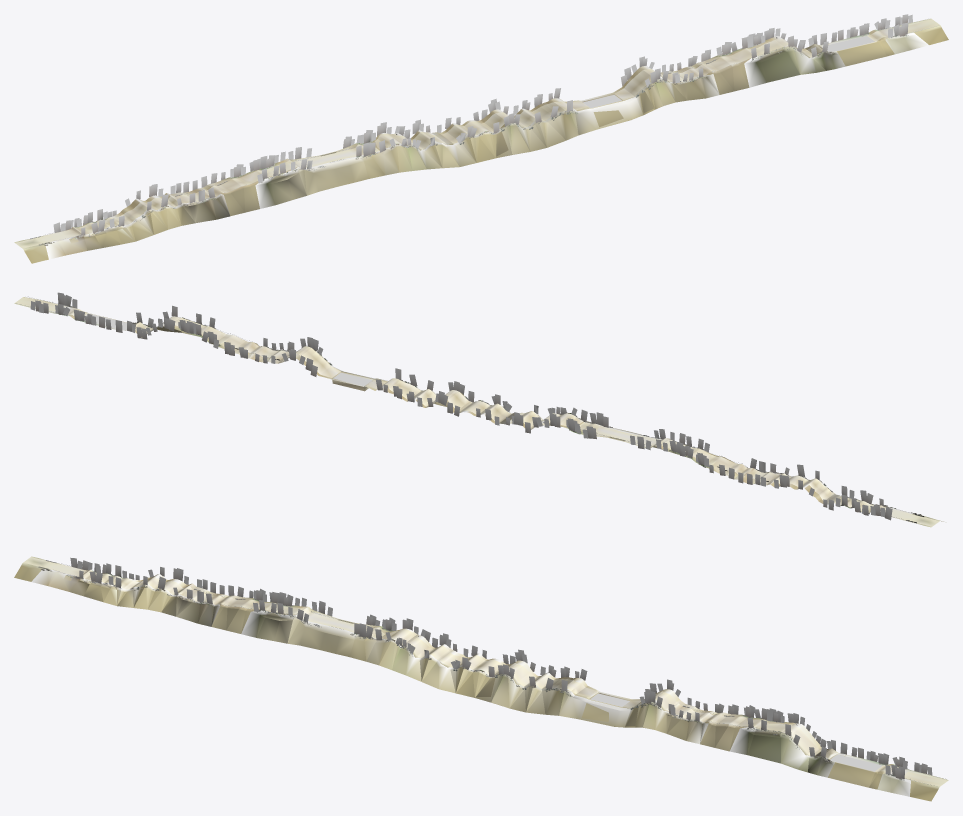
File: Beach_13.fbx
3 renders of one model, top to bottom at view 1: azimuth 30°, elevation 25°; view 2: azimuth 150°, elevation 25°; view 3: azimuth 330°, elevation 25°, orthographic.
Visible parts, largest first — view 1: Mountain_01, Tree_01, Road_01, Ground_01, Sea_01; view 2: Tree_01, Ground_01, Road_01, Mountain_01; view 3: Mountain_01, Tree_01, Road_01, Ground_01, Sea_01.
Part boxes in pixels (left/top/right/bottom): Mountain_01: left=45, top=32, right=928, bottom=259; Tree_01: left=44, top=14, right=912, bottom=245; Road_01: left=14, top=18, right=948, bottom=263; Ground_01: left=15, top=19, right=939, bottom=248; Sea_01: left=583, top=36, right=874, bottom=107; Tree_01: left=30, top=292, right=921, bottom=520; Ground_01: left=15, top=297, right=939, bottom=526; Road_01: left=14, top=297, right=943, bottom=527; Mountain_01: left=53, top=303, right=919, bottom=515; Mountain_01: left=31, top=569, right=910, bottom=796; Tree_01: left=41, top=557, right=932, bottom=780; Road_01: left=14, top=556, right=948, bottom=801; Ground_01: left=23, top=557, right=947, bottom=786; Sea_01: left=590, top=693, right=882, bottom=771.
Size of the model in its own units: 80124 by 3681 by 3829.
